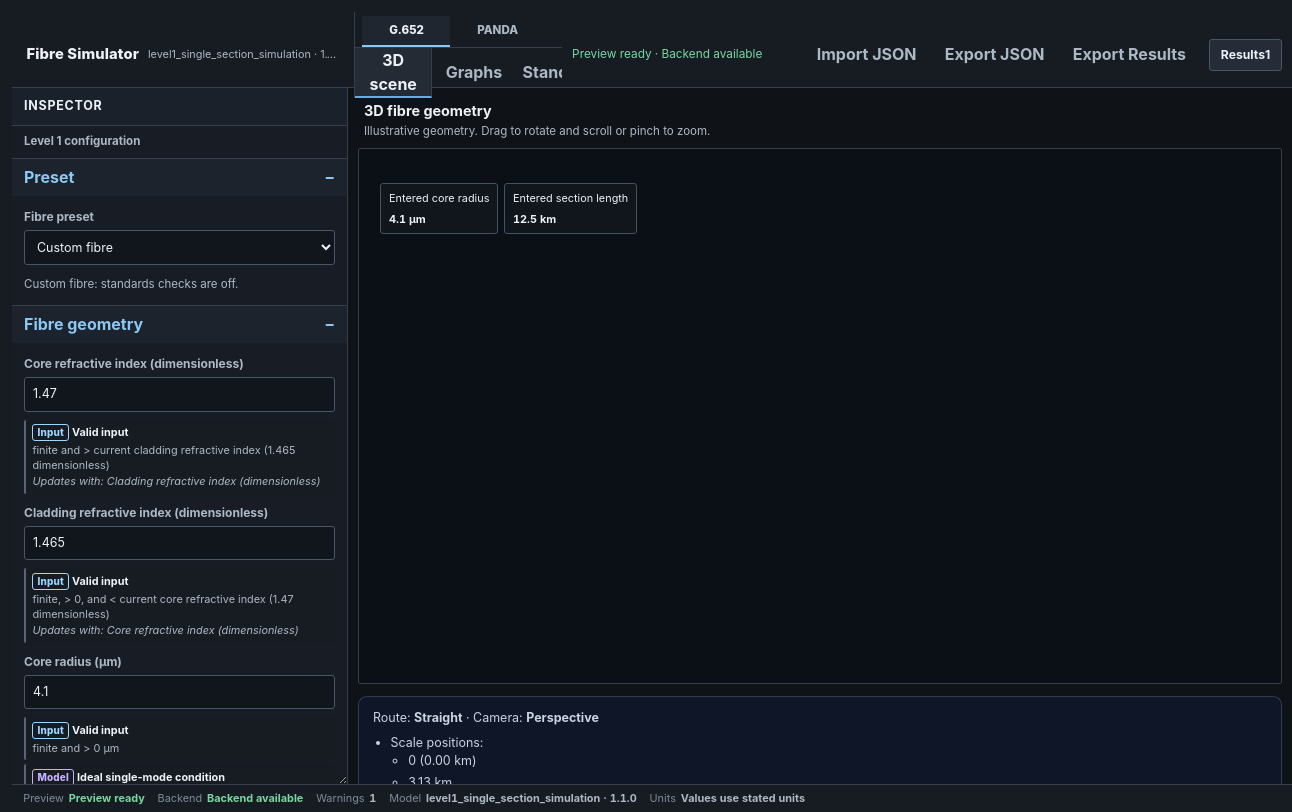
Scenario: Level 1 form › shows boundaries from the matching preview and clears stale guidance after an edit
expect the element "Core radius" is shown: met, box [24,653,335,784]
expect the text "finite and > 0 µm" is shown: met, box [32,741,119,755]
Replace the text in the number field labelled "Core radius (µm)" with "4.2" at (180, 692), box [24,675,335,709]
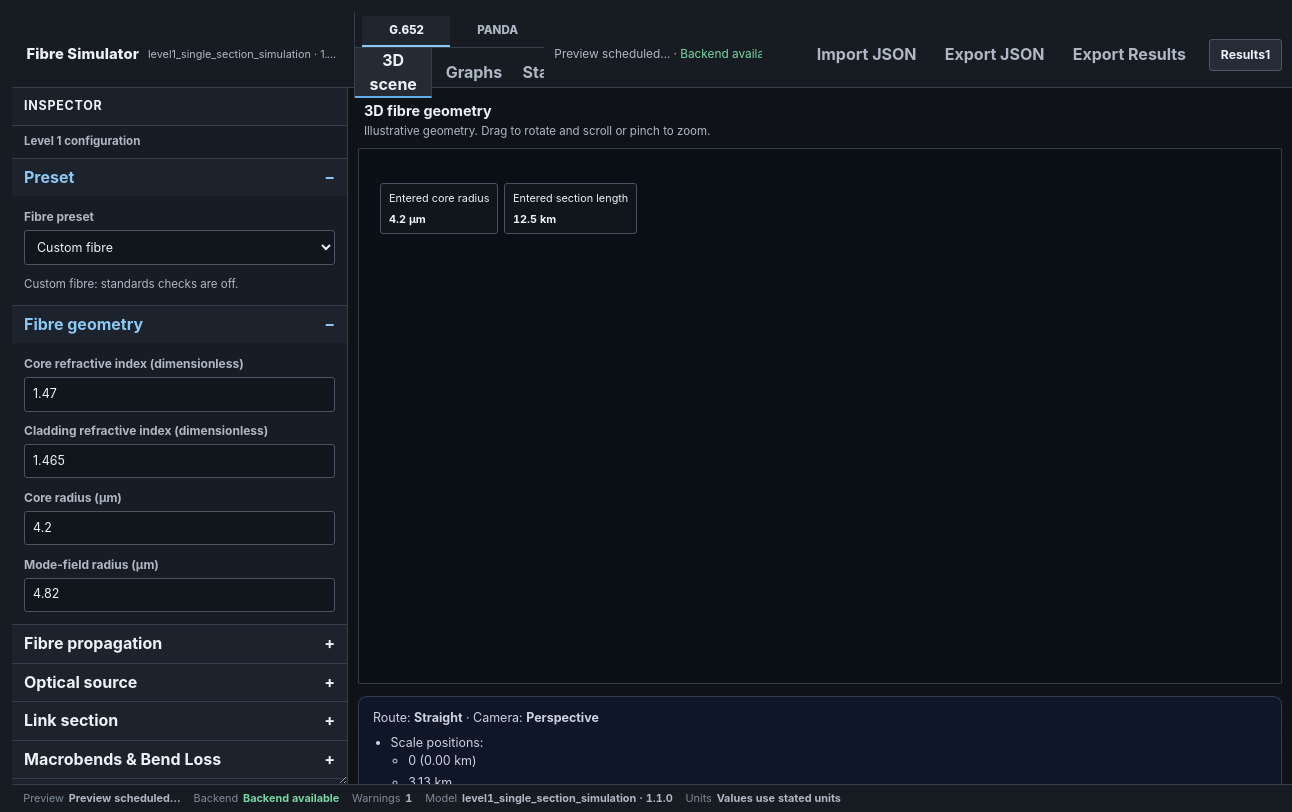
expect the text "finite and > 0 µm" is gone: met
